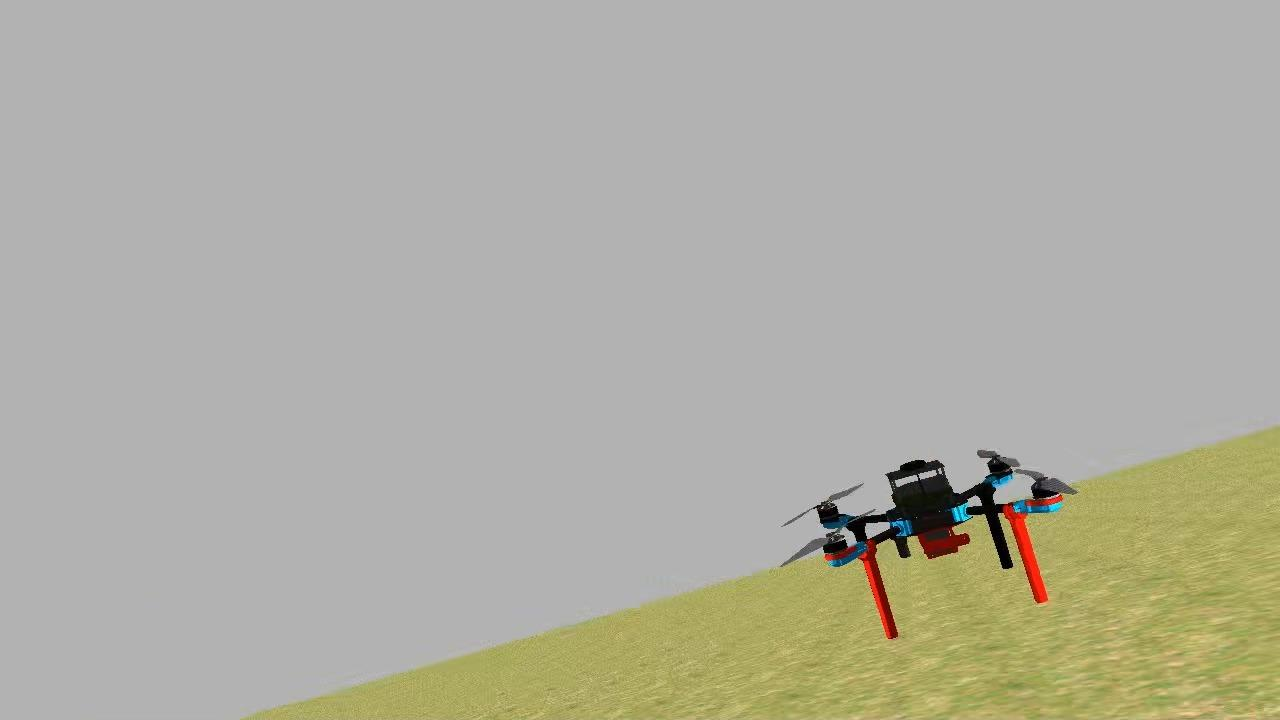UAV: (801, 430, 1084, 642)
